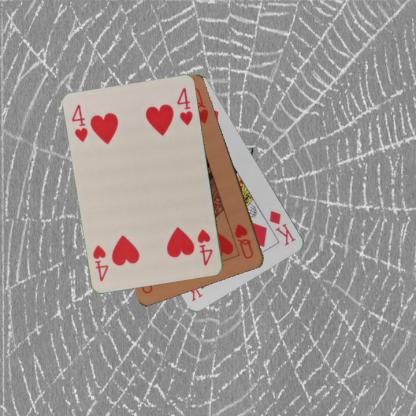4h: (70, 102, 90, 144), (195, 226, 214, 267)
Kd: (267, 208, 297, 247)
Qh: (233, 220, 256, 260)
